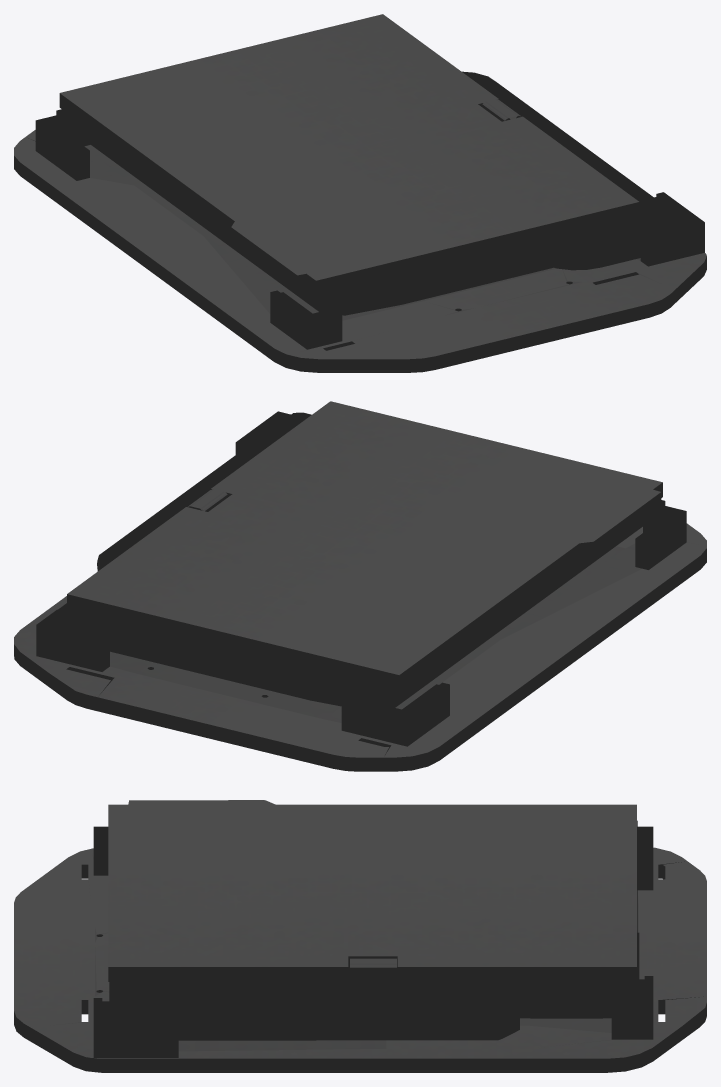
Rendered from plate_top.dae.
The picture shows the model from 3 angles, top to bottom: view 1: azimuth 30°, elevation 25°; view 2: azimuth 150°, elevation 25°; view 3: azimuth 270°, elevation 25°; orthographic projection. The views are drawn at different scales.
Parts seen in each view (by area): view 1: Mesh; view 2: Mesh; view 3: Mesh.
Part boxes in pixels (box(x1,y1,x2,y2)): Mesh: box(14, 14, 706, 372); Mesh: box(14, 401, 706, 771); Mesh: box(14, 800, 706, 1072).
Size of the model in its own units: 0.29 by 0.4 by 0.049.
Materials: 1 (1 with a texture image).
